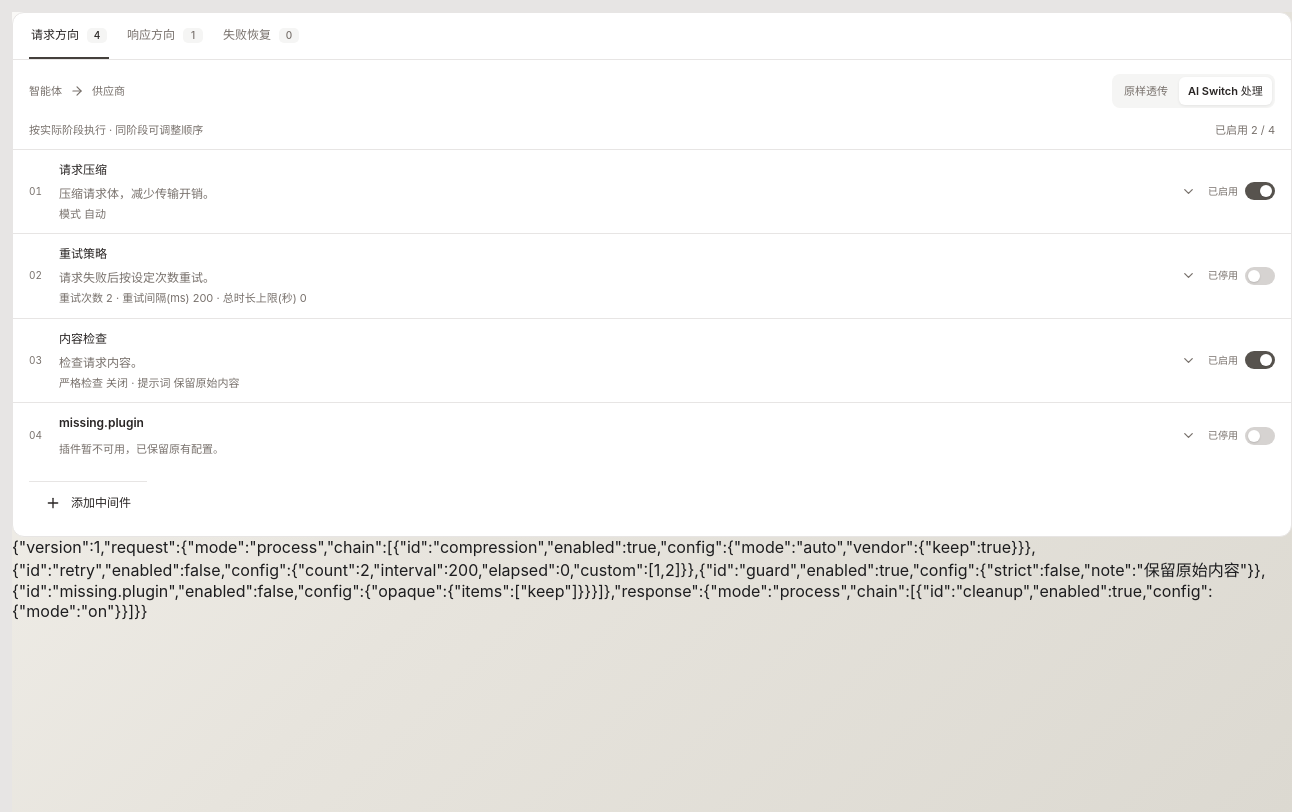
Test: PipelineFlowEditor compact settings › re-enables an existing disabled plugin instead of duplicating it
The image size is (1292, 812).
Click the switch named "启用插件 重试策略": (1260, 276) [1245,267,1275,285]
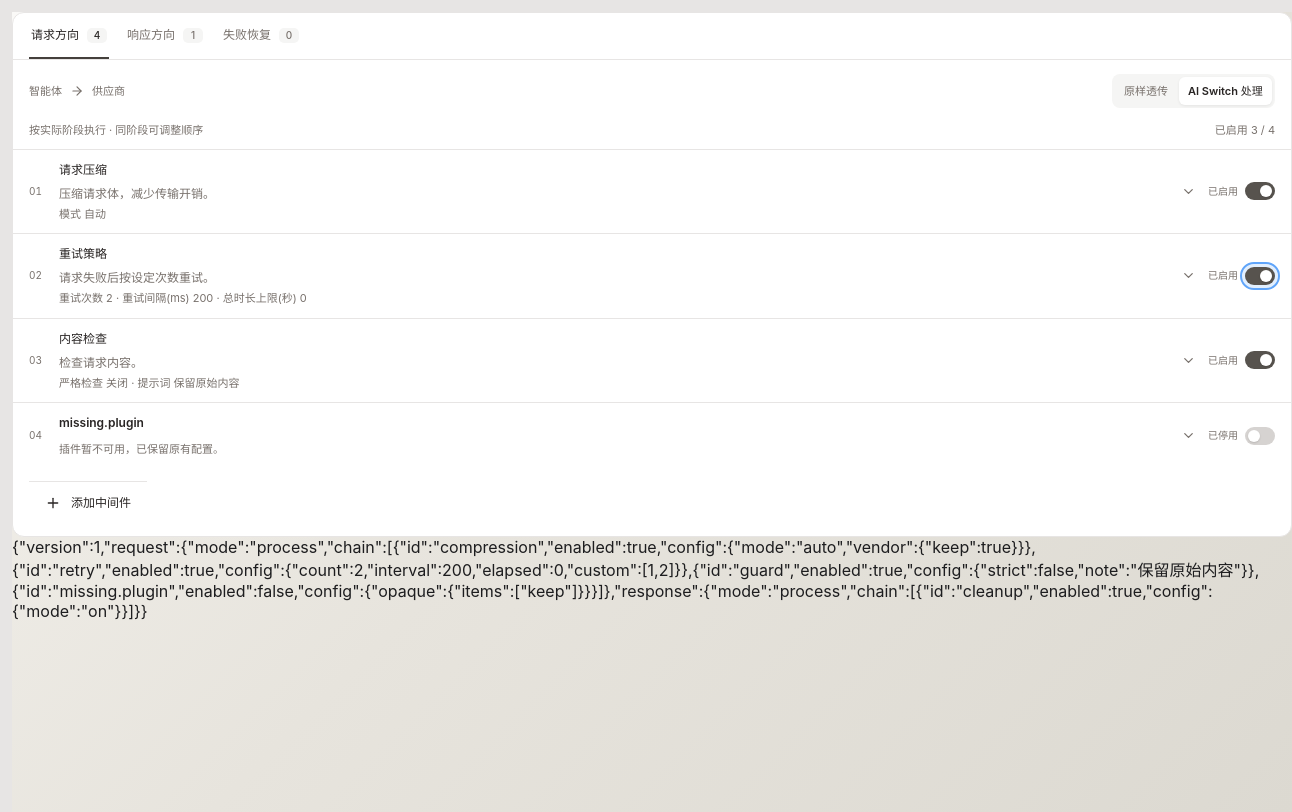
Click the button with aria-label "配置 重试策略": (83, 254) [13,234,1208,318]
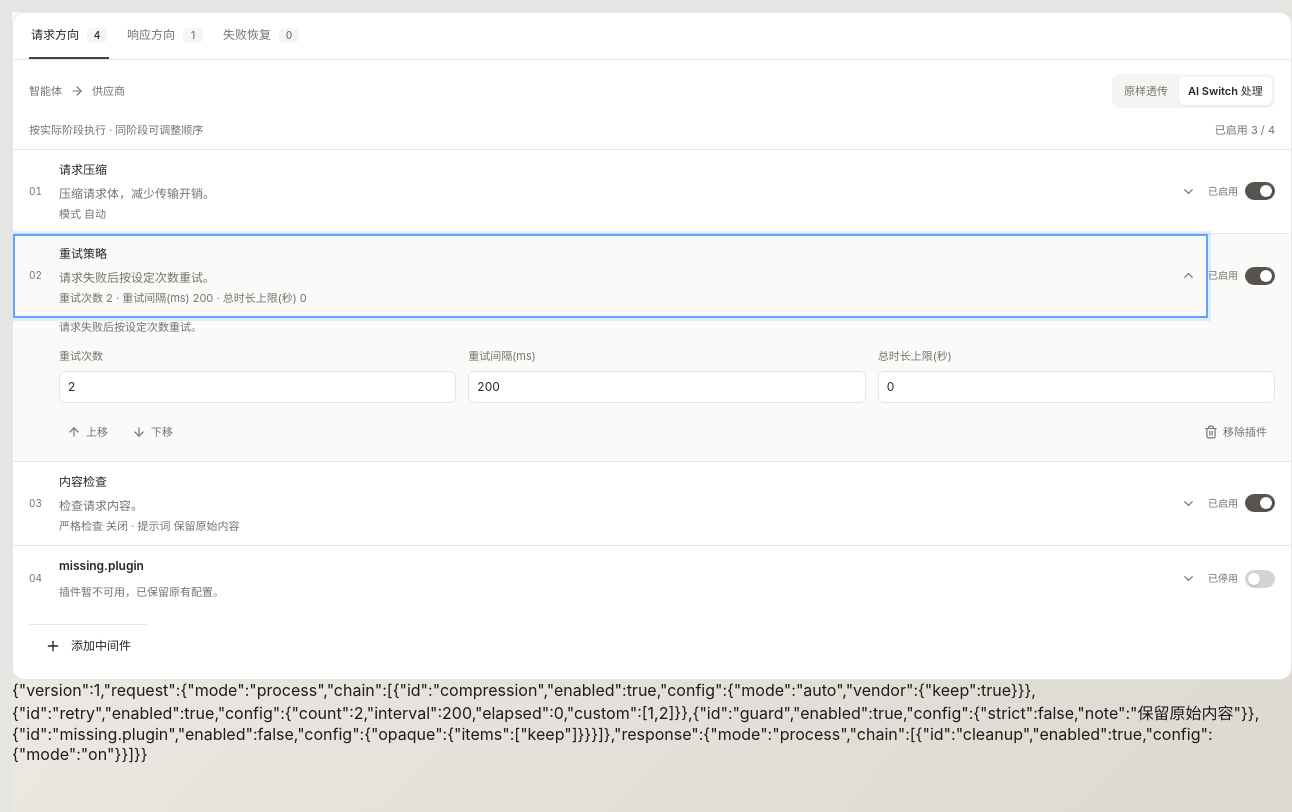
Now the number field named "重试策略 重试次数" holds "2", box [59,371,456,403]
